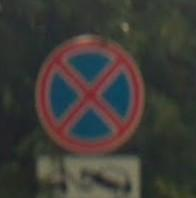No Parking: (36, 34, 146, 156)
